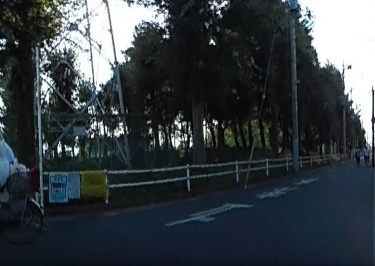person: (353, 144, 361, 166), (362, 146, 370, 164)
